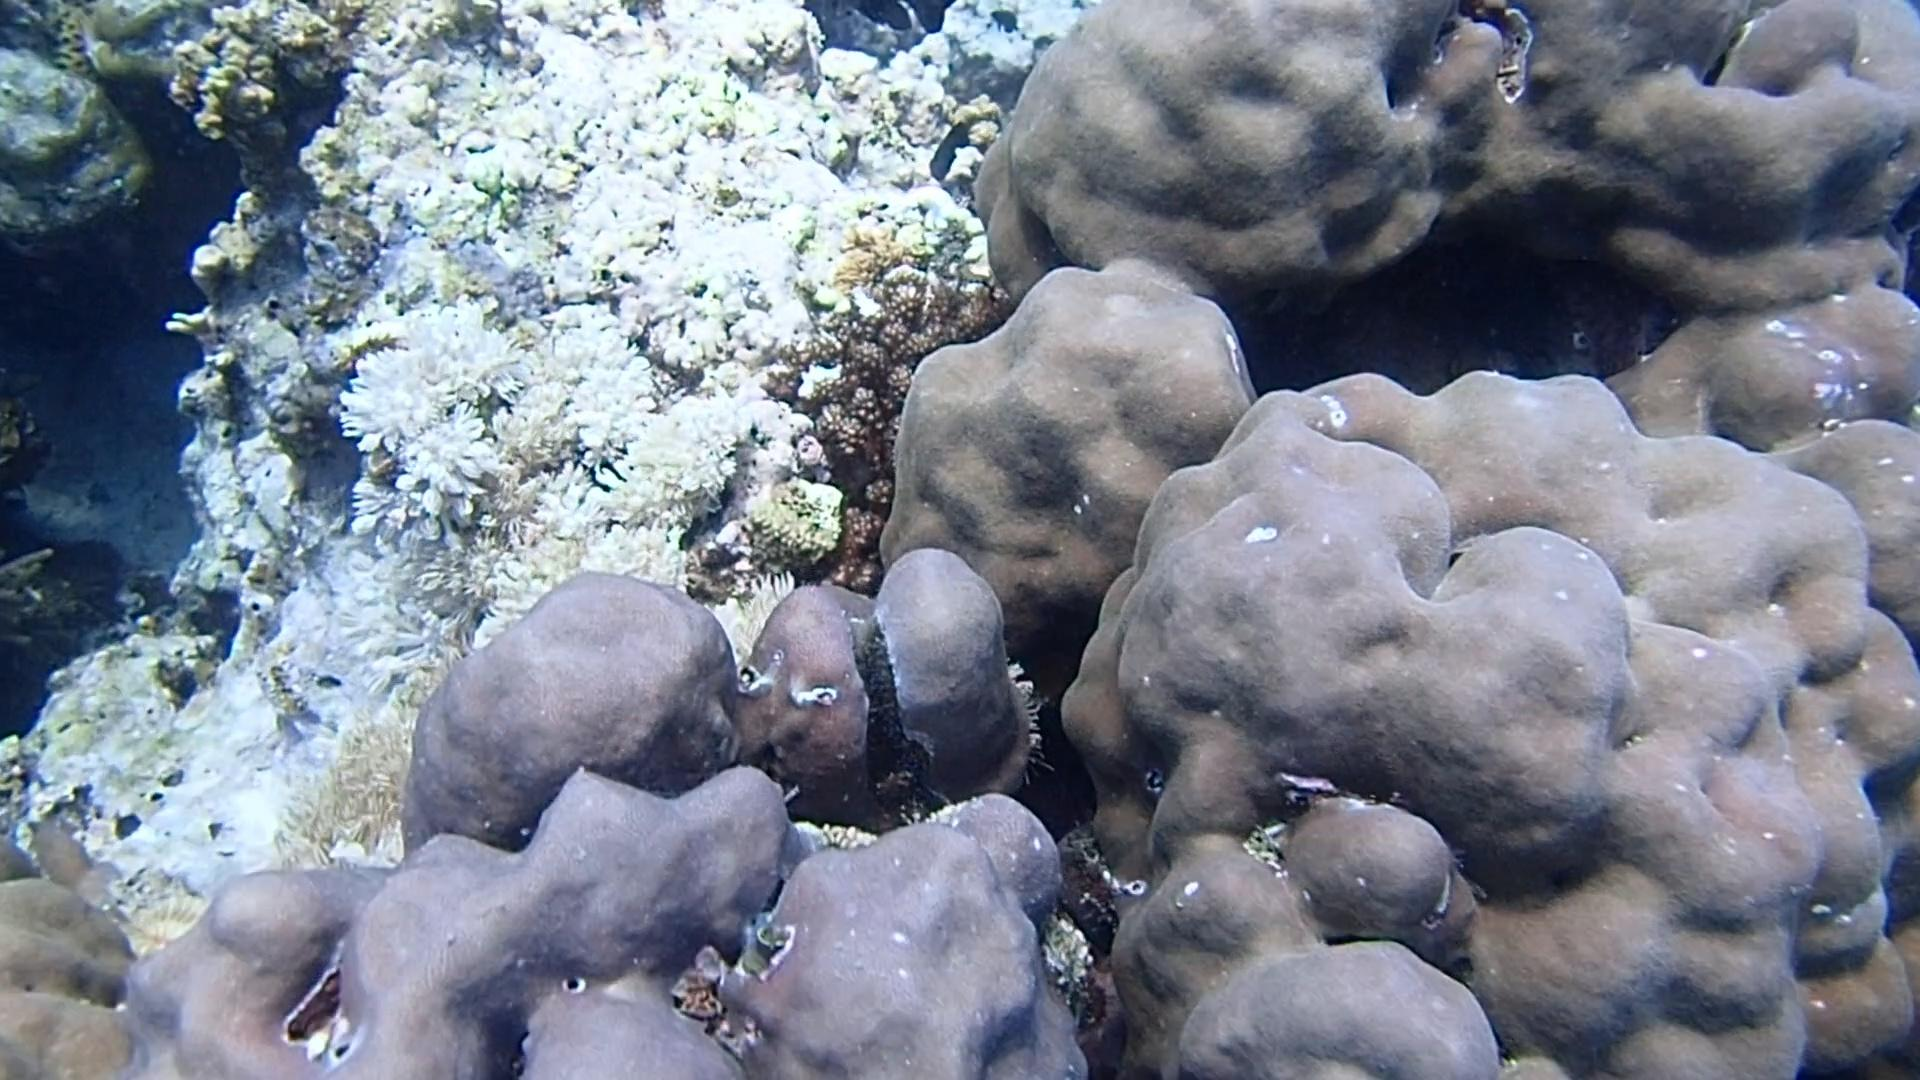Dark Fish: (920, 115, 981, 185), (985, 3, 1026, 41)
